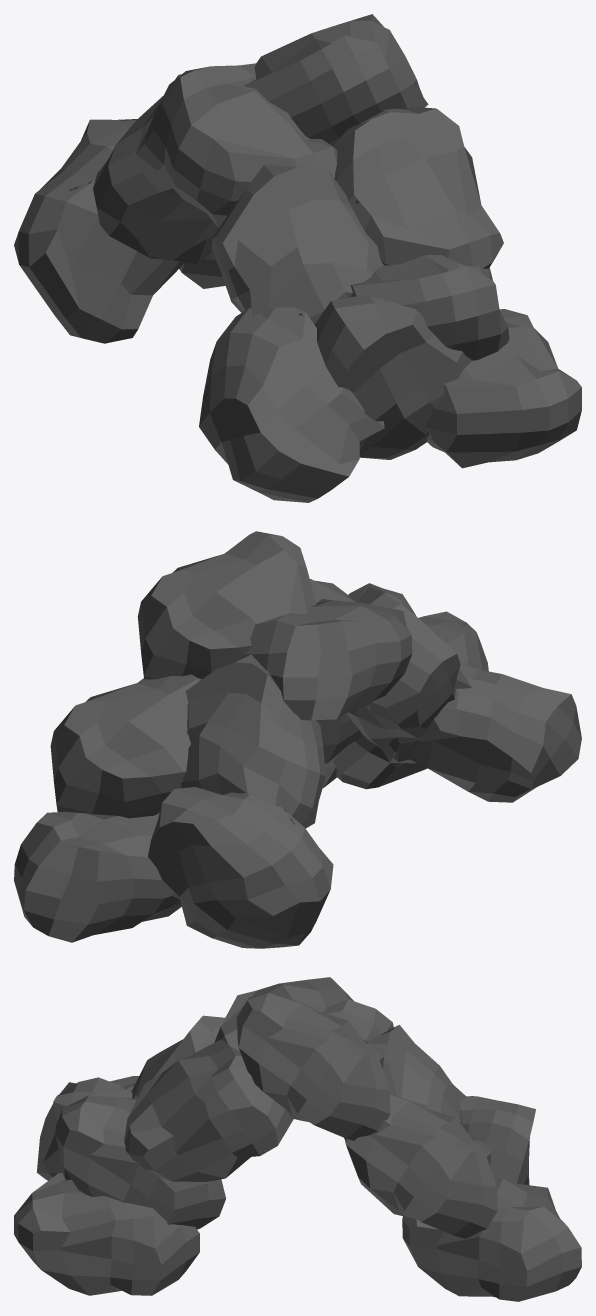
File: kayalar_yeni.fbx
3 renders of one model, top to bottom at view 1: azimuth 30°, elevation 25°; view 2: azimuth 150°, elevation 25°; view 3: azimuth 270°, elevation 25°, orthographic. The views are drawn at different scales.
Parts seen in each view (by area): view 1: Cube.012; view 2: Cube.012; view 3: Cube.012.
Boxes of the visible parts, x1=… form: Cube.012: x1=14, y1=14, x2=581, y2=502; Cube.012: x1=14, y1=531, x2=581, y2=948; Cube.012: x1=14, y1=977, x2=581, y2=1301.
Size of the model in its own units: 10.62 by 9.74 by 17.81.
1 material, 1 textured.
